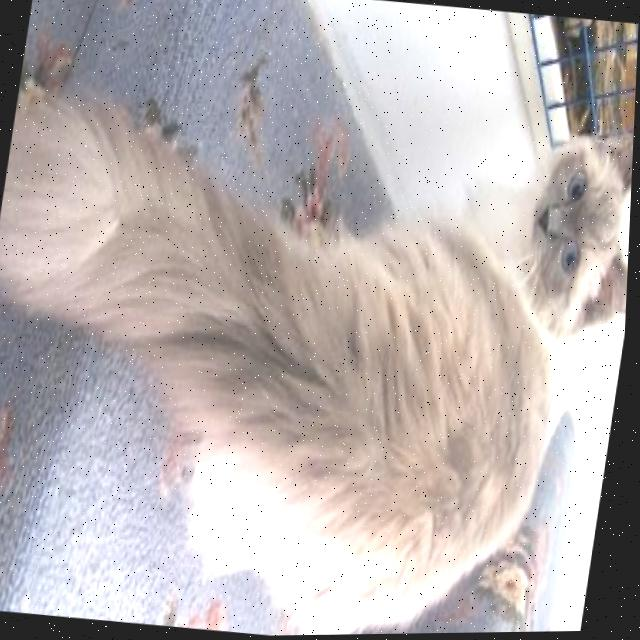Birman: (0, 44, 638, 640)
